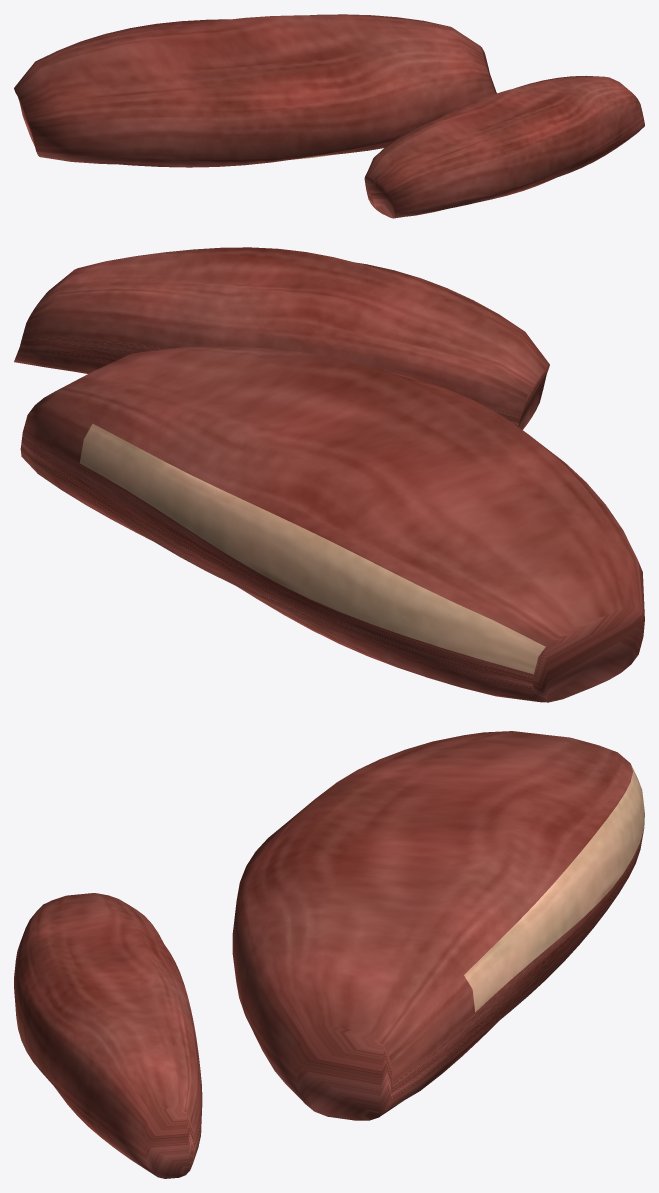
File: dog_meat.glb
3 renders of one model, top to bottom at view 1: azimuth 30°, elevation 25°; view 2: azimuth 150°, elevation 25°; view 3: azimuth 270°, elevation 25°, orthographic. The views are drawn at different scales.
Parts seen in each view (by area): view 1: dog_meat; view 2: dog_meat; view 3: dog_meat.
Part boxes in pixels (bbox=[...]): dog_meat: bbox=[14, 14, 644, 218]; dog_meat: bbox=[14, 247, 644, 702]; dog_meat: bbox=[14, 731, 644, 1178].
Bounding box in the file's own units: 0.1572 × 0.0279 × 0.1153.
2 materials, 2 textured.
